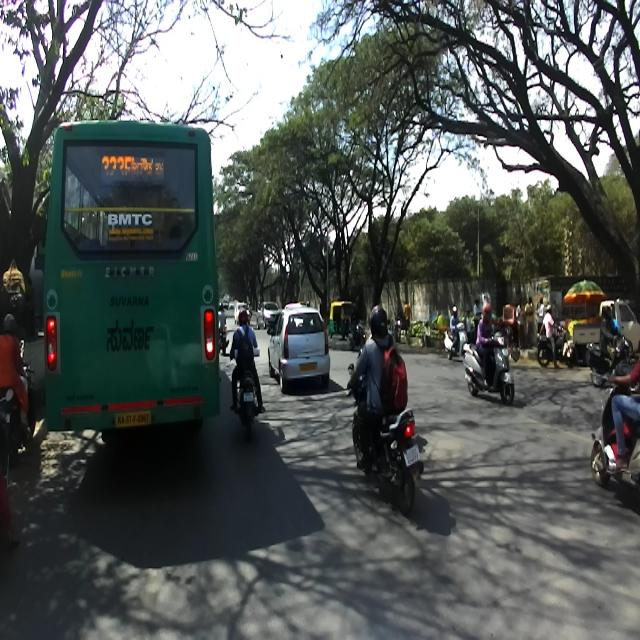bus: (40, 115, 218, 437)
car: (267, 305, 329, 392)
motorcycle: (348, 362, 423, 516), (230, 346, 260, 440)
scooter: (590, 362, 640, 486), (462, 329, 514, 404), (0, 362, 34, 465)
